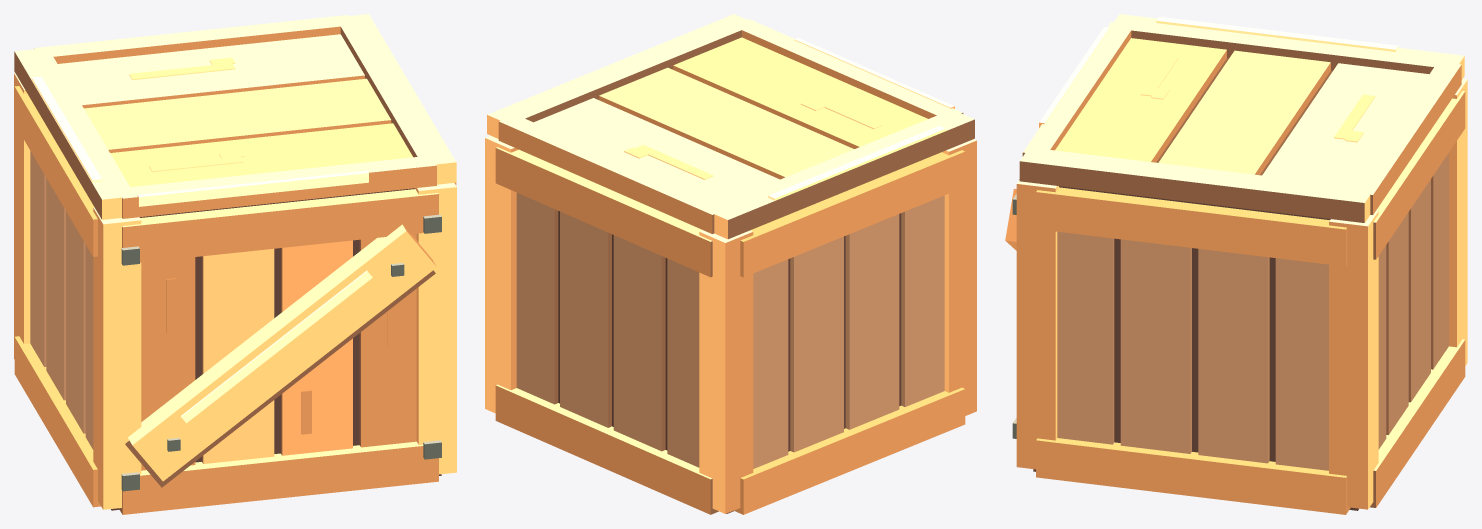
Rendered from wooden-crate-pixel.glb.
3 renders of one model, left to right at view 1: azimuth 30°, elevation 25°; view 2: azimuth 150°, elevation 25°; view 3: azimuth 270°, elevation 25°, orthographic. The views are drawn at different scales.
Parts seen in each view (by area): view 1: WoodenCratePixel; view 2: WoodenCratePixel; view 3: WoodenCratePixel.
Part boxes in pixels (box(x1,y1,x2,y2)): WoodenCratePixel: box(14, 14, 456, 514); WoodenCratePixel: box(485, 14, 976, 514); WoodenCratePixel: box(1005, 14, 1467, 514).
Bounding box in the file's own units: 1.15 × 0.896 × 1.19.
